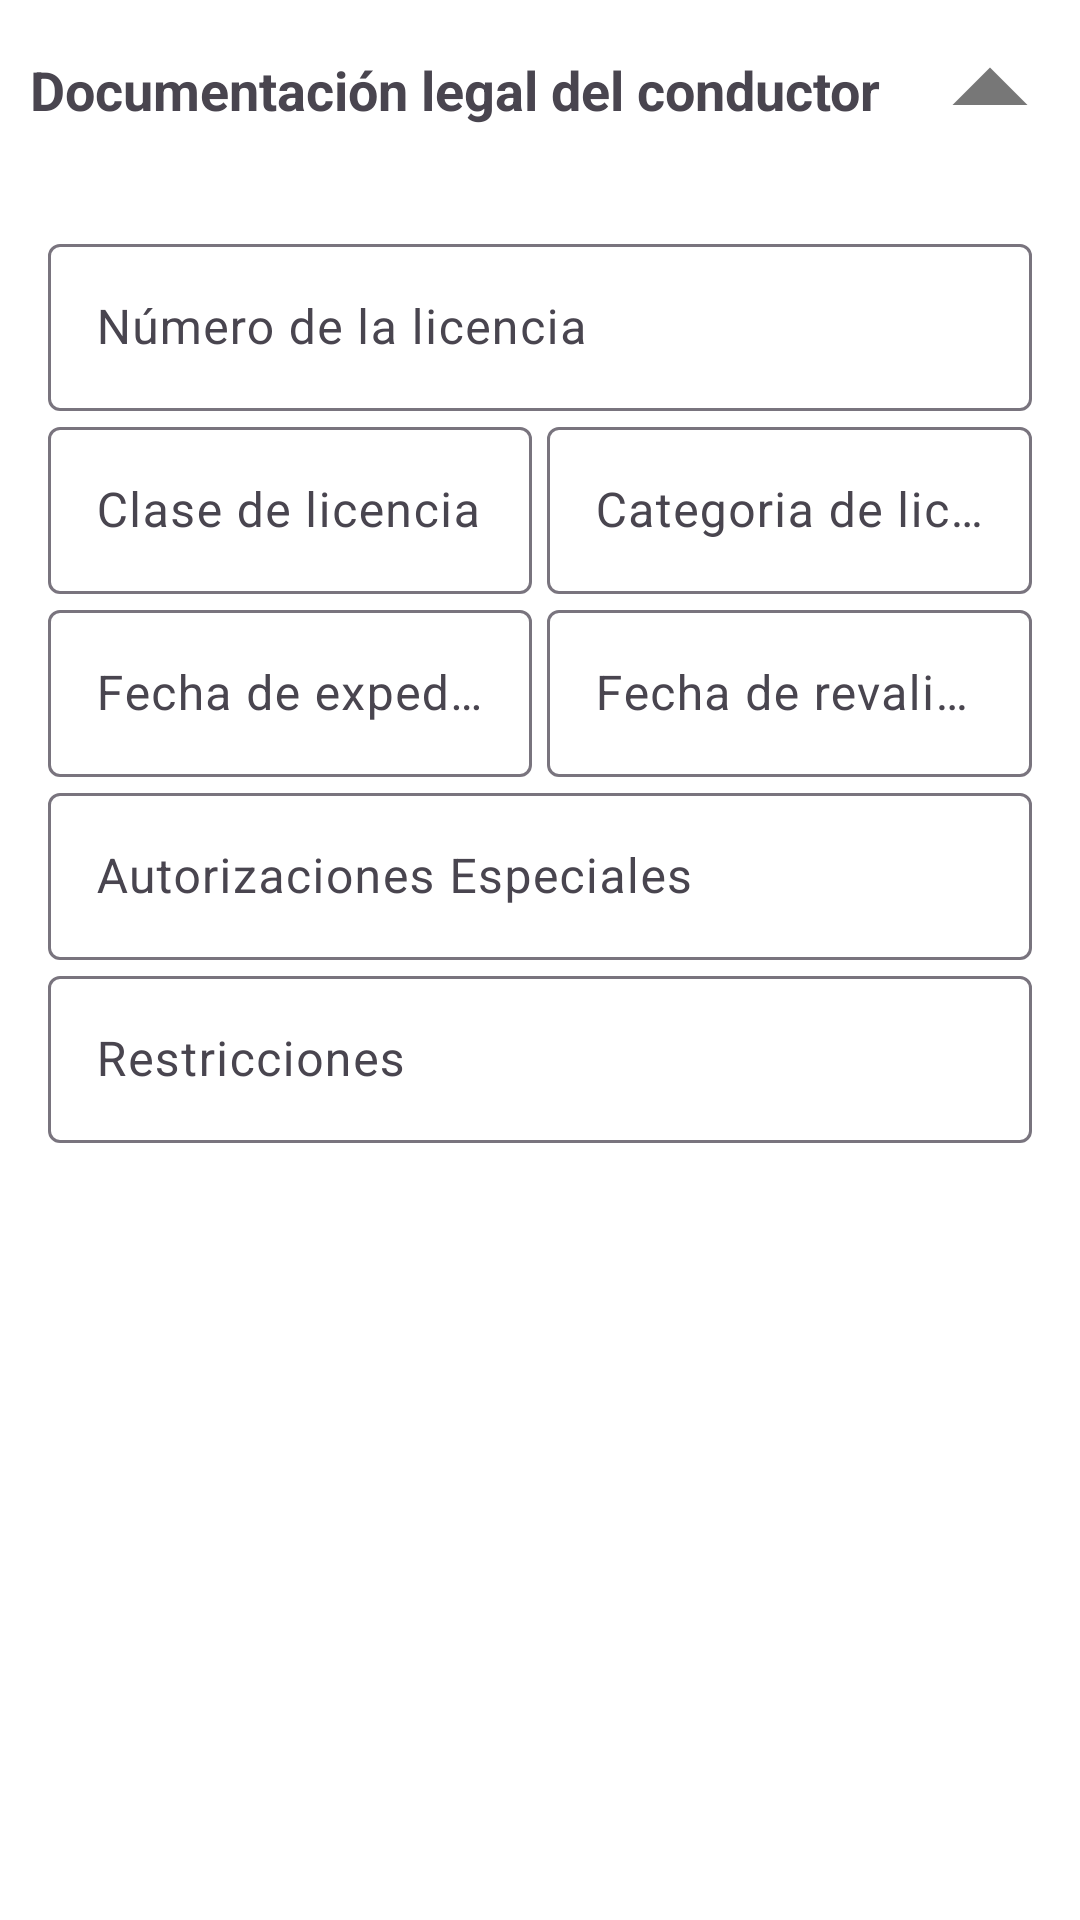

Where icons sit on this 1080x1920 app screen, as bbox(x1, y1, x2, y2):
drop up: bbox(953, 68, 1027, 105)
